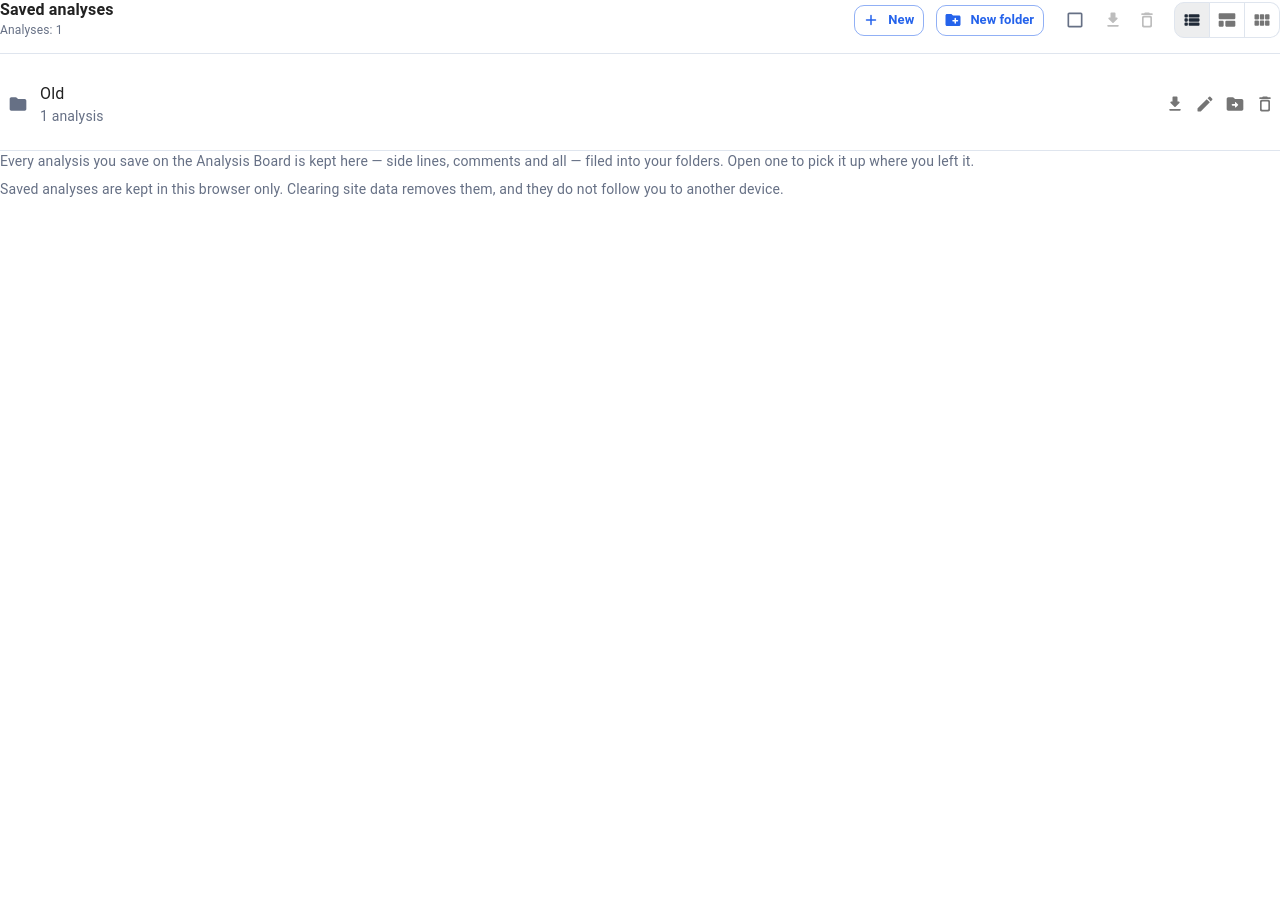
Scenario: Saved analyses — named, and filed in folders (CTA-73) › deletes a folder keeping its analyses, after asking
The image size is (1280, 900).
Expected: the element with test id "saved-analyses-screen" is shown, [0, 0, 1279, 151]
Click the button named "Delete folder" at (1265,104), box [1250, 89, 1279, 119]
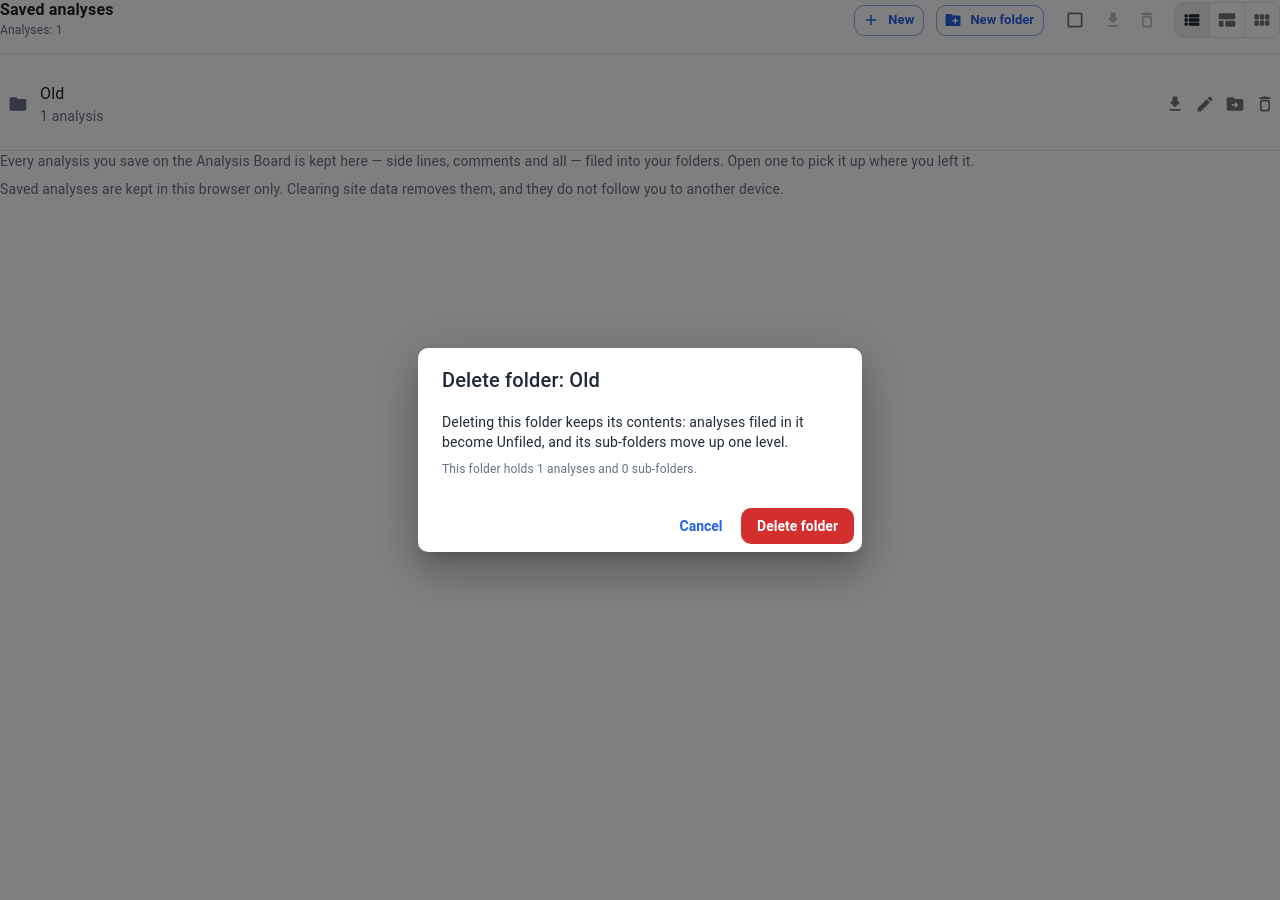
Result: the text with test id "analysis-folder-delete-counts" shows "1 analyses" at [442, 462, 697, 476]
Click the button with test id "analysis-folder-delete-confirm" at (798,526), box [741, 508, 854, 544]
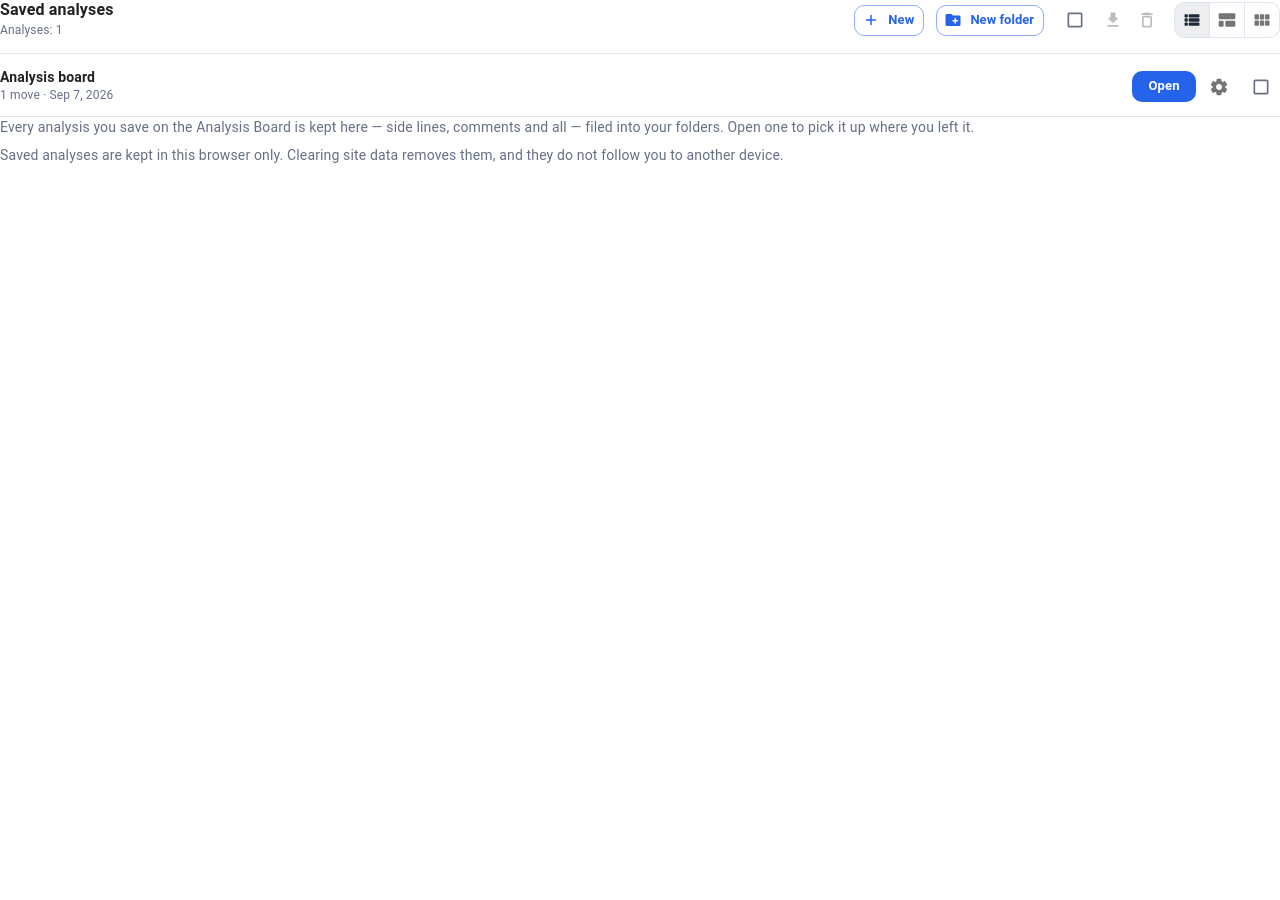
Result: the list item with test id "saved-analyses-item-a1" is shown at [0, 58, 1279, 117]
